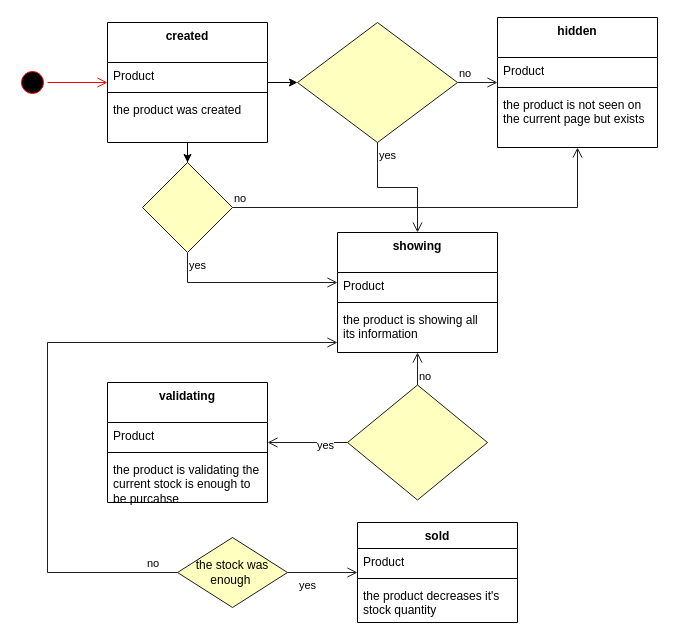
Image size: 675x643. Some labels were removed from this diagram. Each missing label, with the box of its shape:
the customer select more than one unit to buy: (346, 384, 488, 500)
The product is seen on the current page: (296, 22, 458, 142)
The product was search: (142, 162, 232, 252)
